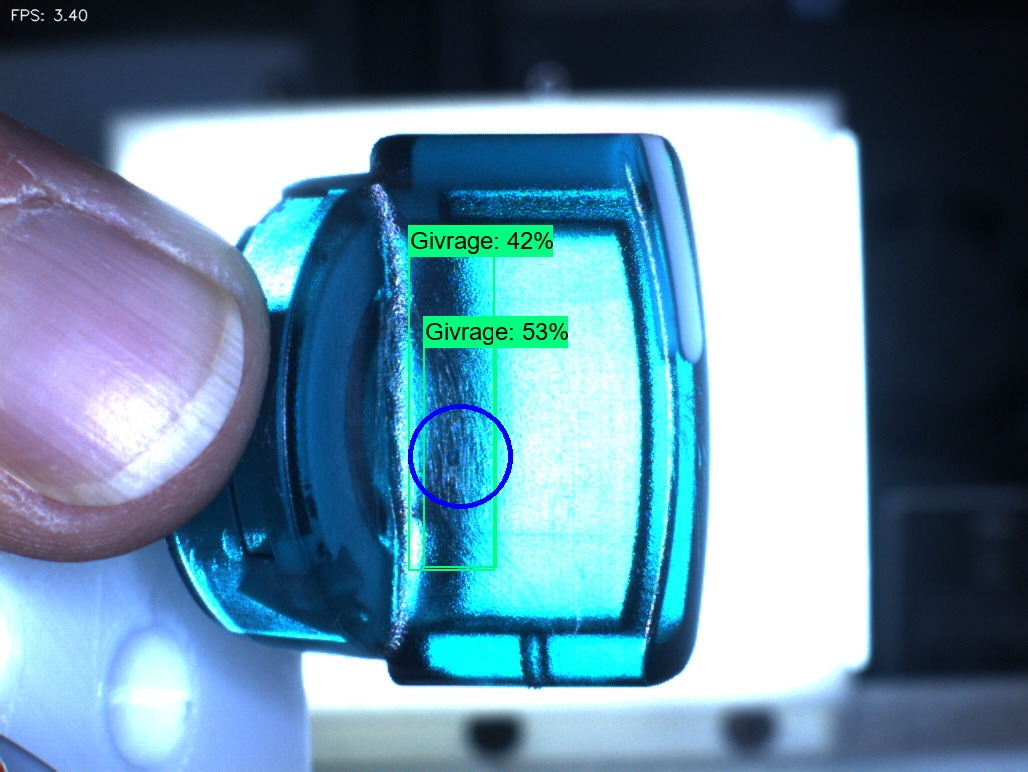Bulle: (489, 597, 584, 707)
